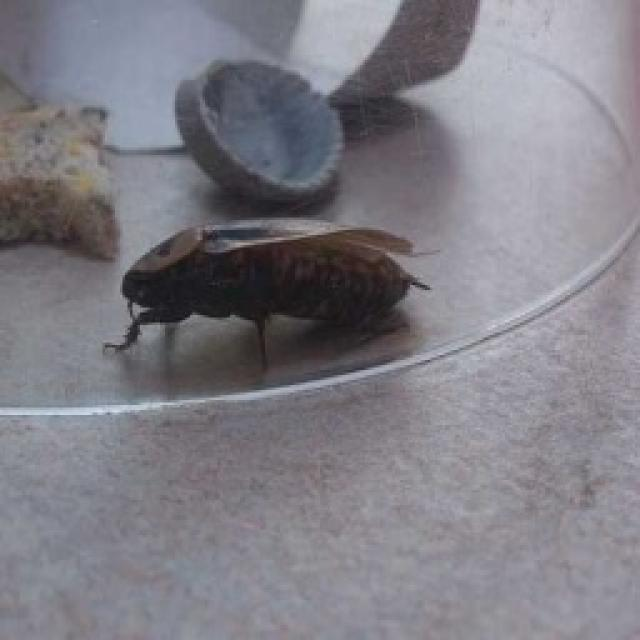cockroach: (100, 214, 435, 373)
